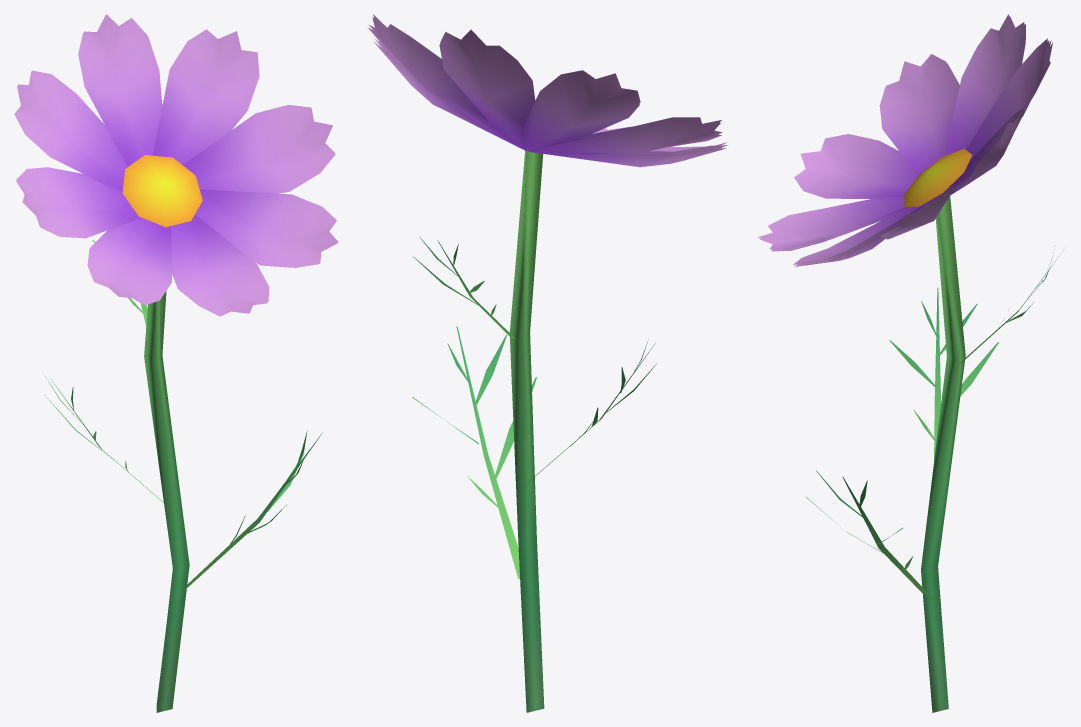
The model's file is Cosmos.fbx.
3 views of the same model, side by side, from view 1: azimuth 30°, elevation 25°; view 2: azimuth 150°, elevation 25°; view 3: azimuth 270°, elevation 25° (orthographic). The views are drawn at different scales.
Visible parts, largest first — view 1: Cosmos; view 2: Cosmos; view 3: Cosmos.
Boxes of the visible parts, x1,y1,x2,y2 form: Cosmos: (14, 14, 338, 712); Cosmos: (368, 14, 727, 712); Cosmos: (758, 14, 1062, 712).
Size of the model in its own units: 33.43 by 67.43 by 28.23.
